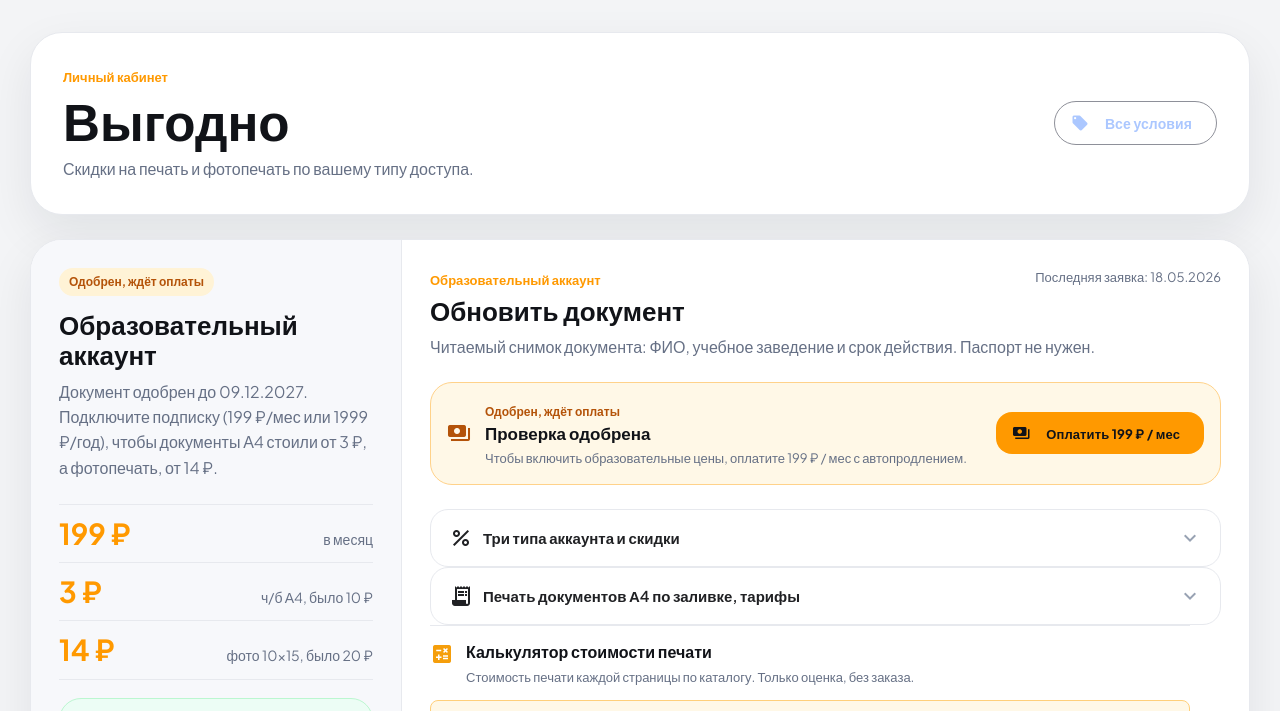
it: StudentAccountComponent › confirms the paid education subscription and refreshes the active status
The width and height of the screenshot is (1280, 711).
Click the button with class "student-access-callout__button". click: (1100, 433)
box: [996,412,1204,454]
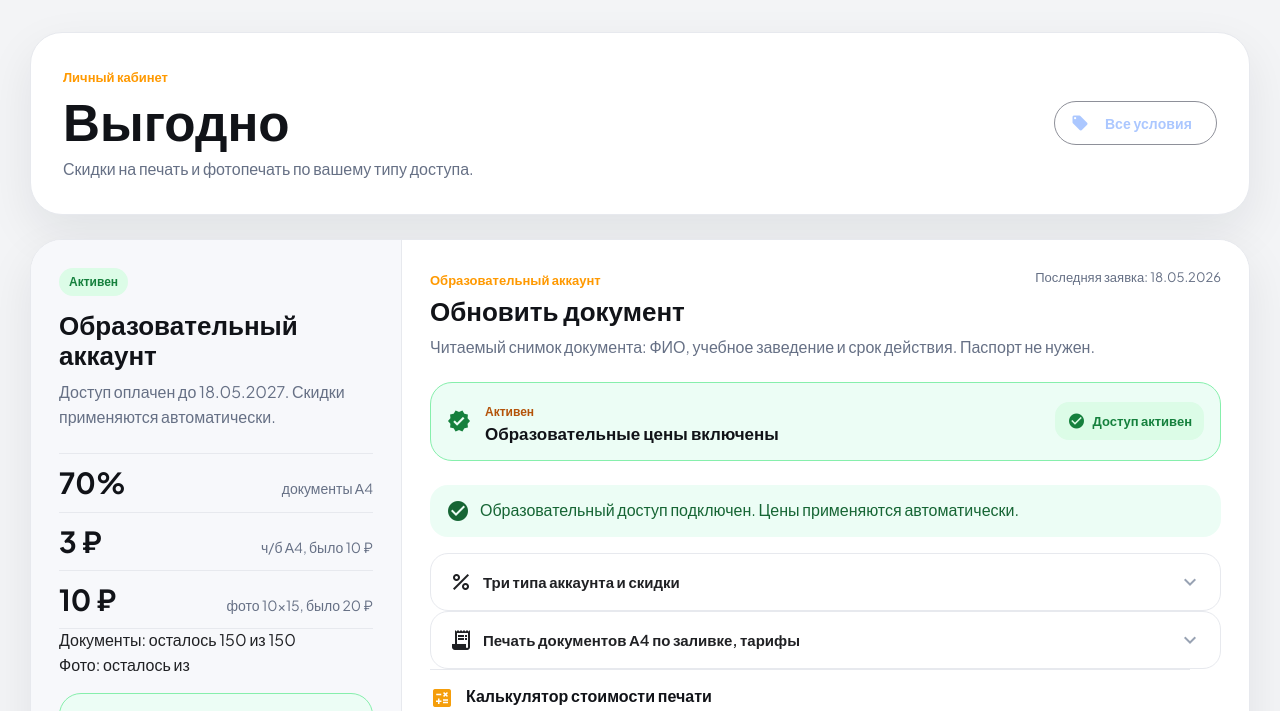
Check: the element with class "student-access-callout" shows "Образовательные цены включены", box [485,422,779,444]
Check: the text "Образовательный доступ подключен" is shown, box [480,499,1019,520]
